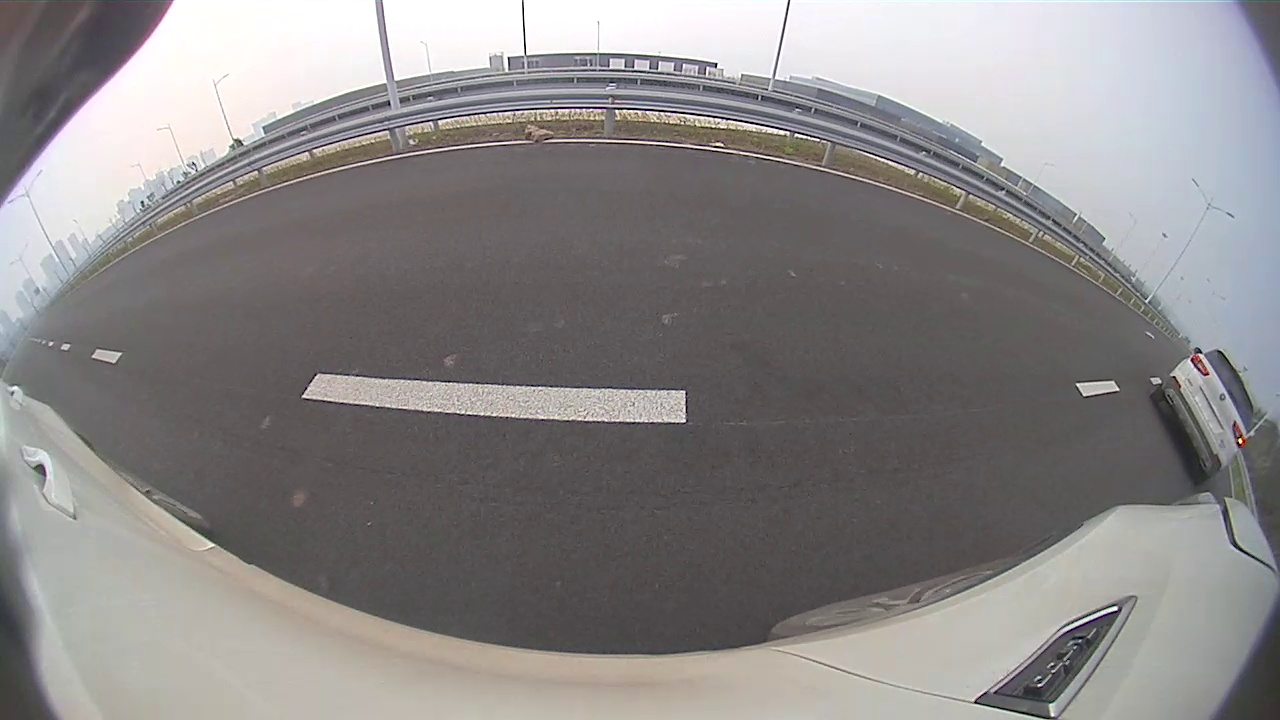car: (669, 155, 707, 188)
